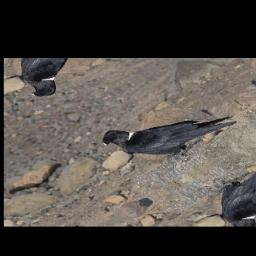Crow: (93, 84, 251, 183)
